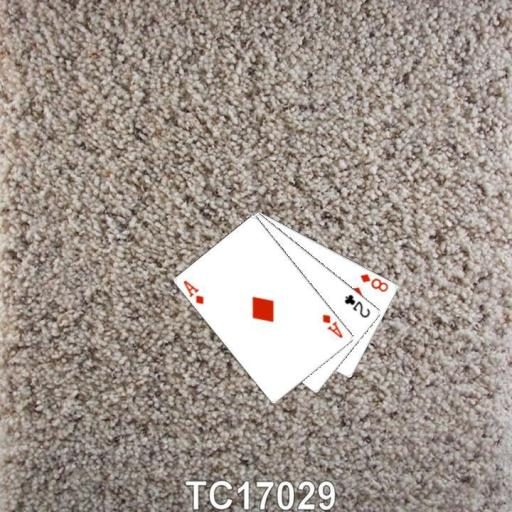2C: (341, 291, 372, 319)
8D: (357, 270, 390, 294)
AD: (319, 311, 345, 340), (181, 277, 206, 306)
